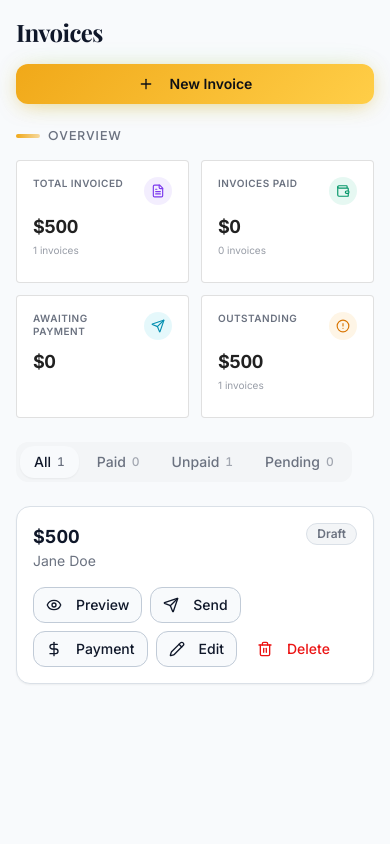
Test: Invoices › deletes an invoice after confirming
Later steps or results of the test are not shown.
Step 1. Click the button "Delete" → (293, 649), box x1=245 y1=631 x2=342 y2=667
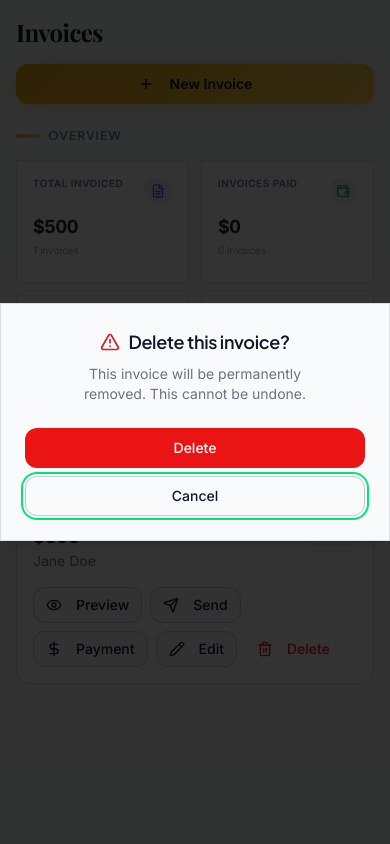
Expected: the heading "Delete this invoice?" is shown, x1=100 y1=330 x2=290 y2=353
